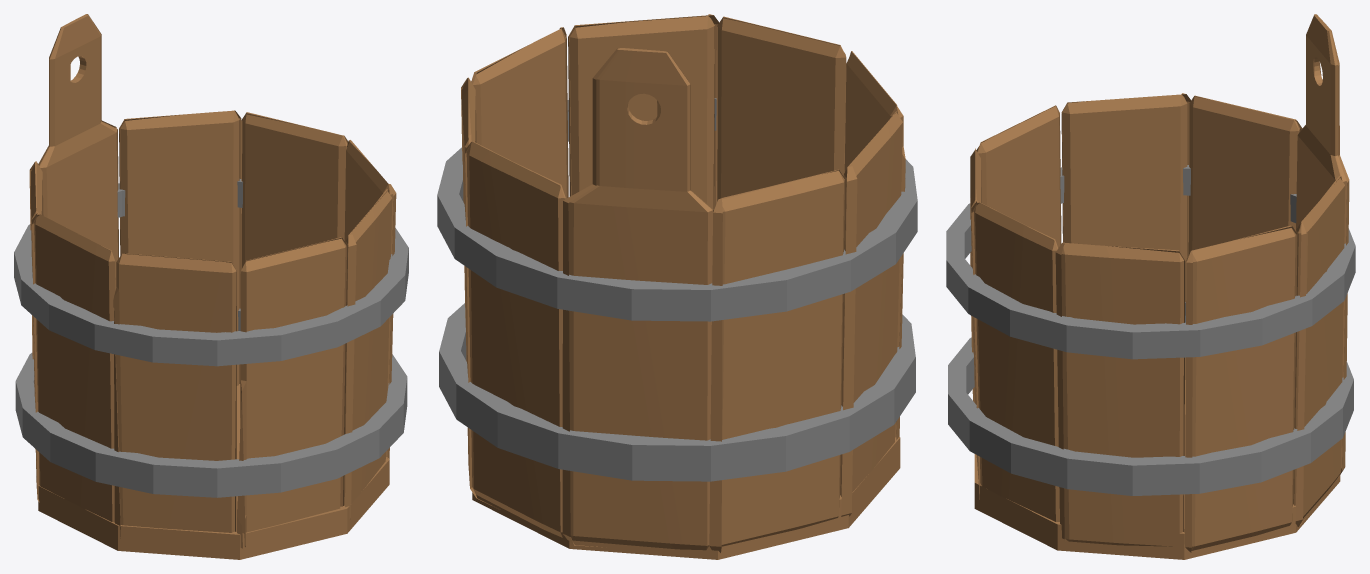
The model's file is Bucket.fbx.
3 views of the same model, side by side, from view 1: azimuth 30°, elevation 25°; view 2: azimuth 150°, elevation 25°; view 3: azimuth 270°, elevation 25° (orthographic). The views are drawn at different scales.
Parts seen in each view (by area): view 1: Bucket main, Bucket rope bottom, Bucket rope upper, Bucket bottom; view 2: Bucket main, Bucket rope bottom, Bucket rope upper, Bucket bottom; view 3: Bucket main, Bucket rope bottom, Bucket rope upper, Bucket bottom.
Part boxes in pixels (box(x1,y1,x2,y2)): Bucket main: box(29, 14, 396, 550); Bucket rope bottom: box(15, 308, 407, 497); Bucket rope upper: box(14, 179, 408, 366); Bucket bottom: box(38, 384, 389, 559); Bucket main: box(461, 14, 905, 552); Bucket rope bottom: box(439, 303, 915, 481); Bucket rope upper: box(437, 98, 917, 321); Bucket bottom: box(472, 437, 900, 559); Bucket main: box(970, 14, 1349, 552); Bucket rope bottom: box(948, 302, 1353, 495); Bucket rope upper: box(946, 165, 1355, 359); Bucket bottom: box(974, 380, 1340, 559).
Bounding box in the file's own units: 124 × 144 × 124.
